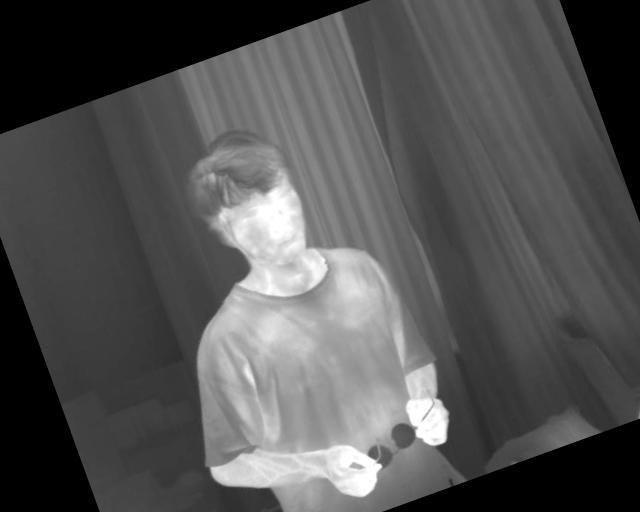face: (169, 114, 323, 290)
